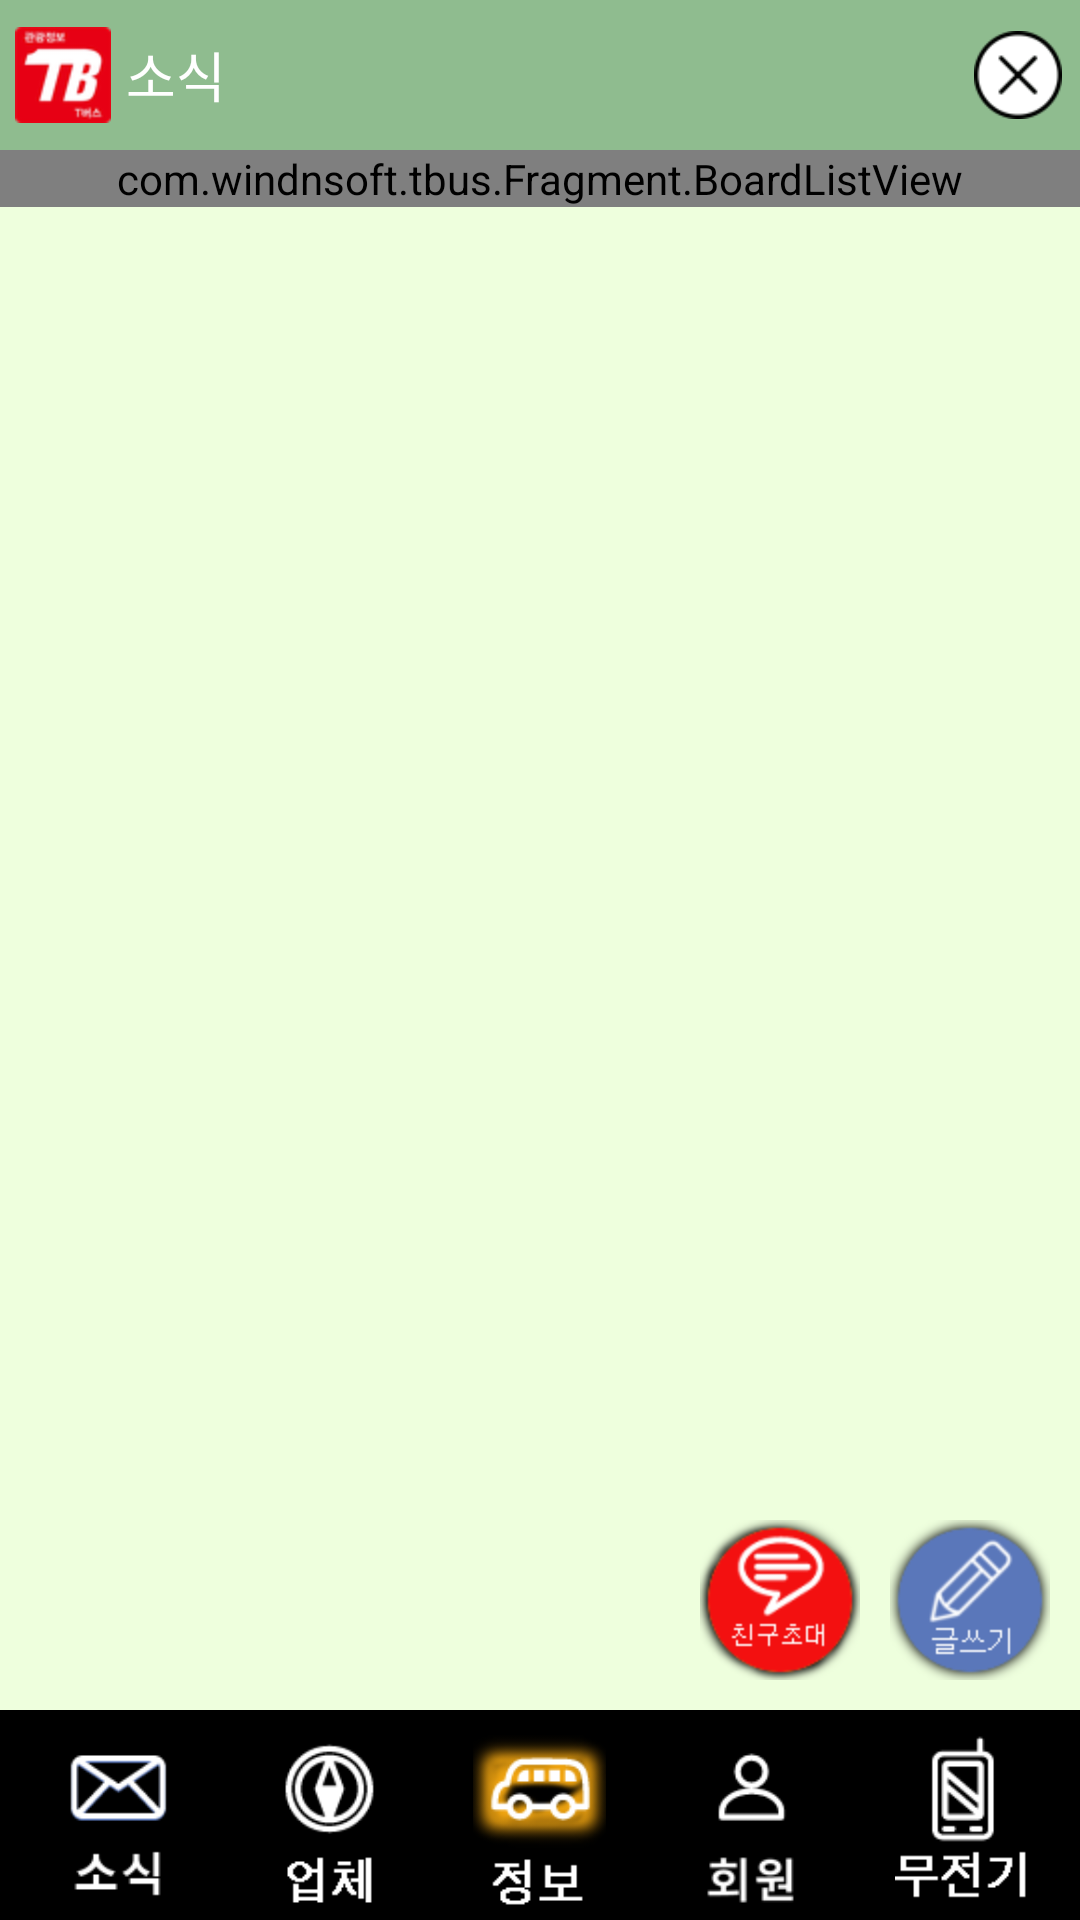

Icon bounding boxes for this 1080w x 1920h phone screenshot, format Rect(x1, y1, x2, y2):
xbutton: Rect(974, 31, 1062, 119)
